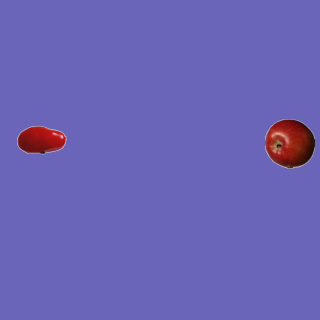Apple Braeburn: (264, 118, 314, 168)
Tomato 2: (16, 114, 66, 164)
